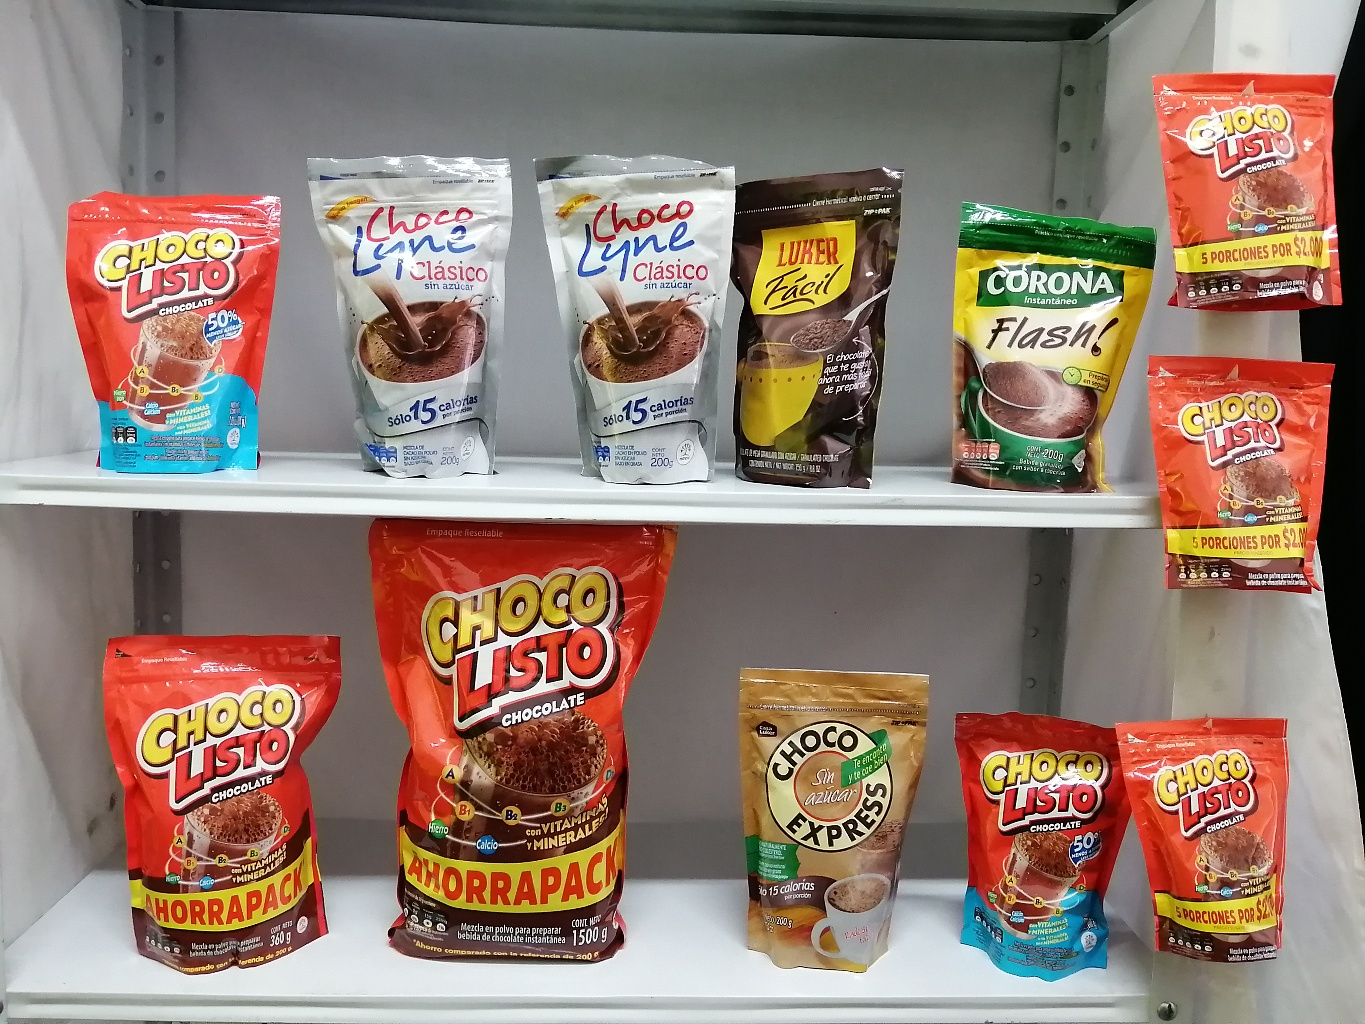COL0170103DYP1,500: (357, 515, 687, 975)
COL0170103DYP36000: (90, 629, 347, 975)
COL0170104DYP20000: (53, 177, 289, 481)
